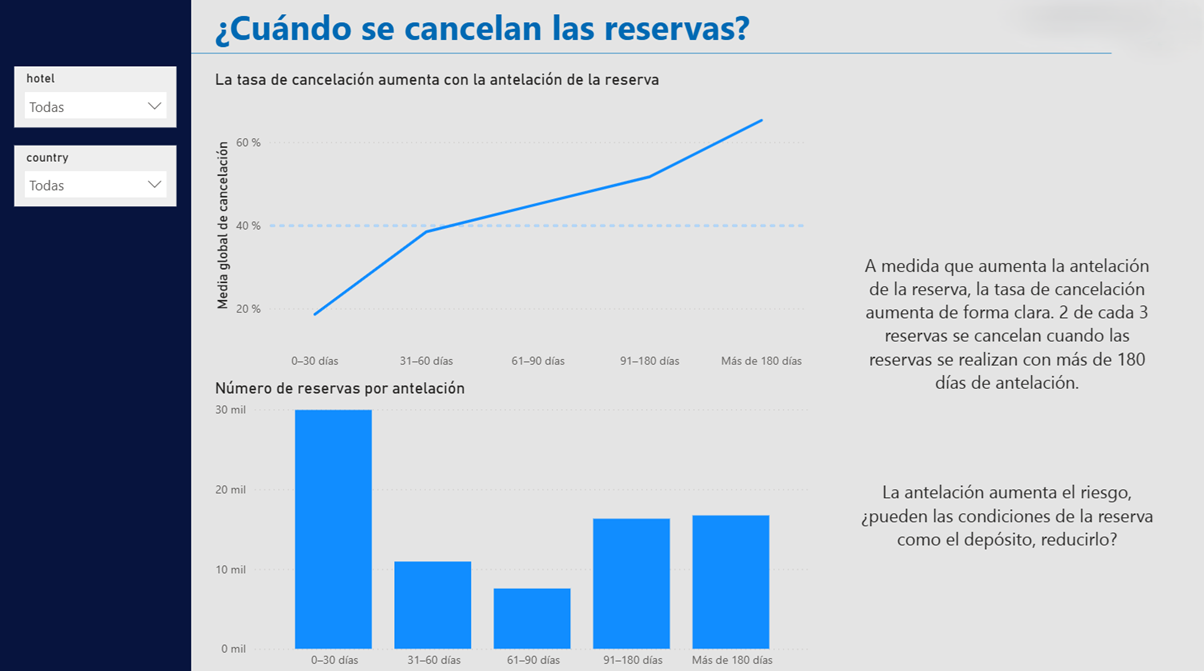

This screenshot's page, from the dashboard's own definition file:
{"tool":"powerbi","page":{"name":"¿Cuándo se cancelan las reservas?","canvas":[1280,720],"ordinal":2},"visuals":[{"type":"textbox","box":[223.7,0,902.6,64.2],"z":0},{"type":"lineChart","title":"La tasa de cancelación aumenta con la antelación de la reserva","fields":{"Category":["hotel_bookings.LeadTime_Rango"],"Y":["Medidas.CancelRate"]},"box":[223.7,74.9,642.9,327.8],"z":1000},{"type":"columnChart","title":"Número de reservas por antelación","fields":{"Category":["hotel_bookings.LeadTime_Rango"],"Y":["Medidas.Bookings"]},"box":[223.7,402.7,642.9,317.1],"z":2000},{"type":"textbox","box":[901.6,264.6,332.6,168.3],"z":2001},{"type":"textbox","box":[901.6,505.8,332.6,168.3],"z":2002},{"type":"slicer","fields":{"Values":["hotel_bookings.hotel"]},"box":[15.6,72,172.2,65.2],"z":2003},{"type":"slicer","fields":{"Values":["hotel_bookings.country"]},"box":[15.6,155.6,172.2,65.2],"z":2004}]}

Visuals, with their boxes on the page's 1280x720 design canvas (x1, y1, x2, y2). These are canvas units, not pixel positions in the 1204x671 screenshot, which may show the page scaled, cropped or inside an application window:
textbox: rect(224, 0, 1126, 64)
"La tasa de cancelación aumenta con la antelación de la reserva" lineChart: rect(224, 75, 867, 403)
"Número de reservas por antelación" columnChart: rect(224, 403, 867, 720)
textbox: rect(902, 265, 1234, 433)
textbox: rect(902, 506, 1234, 674)
slicer - hotel_bookings.hotel: rect(16, 72, 188, 137)
slicer - hotel_bookings.country: rect(16, 156, 188, 221)
